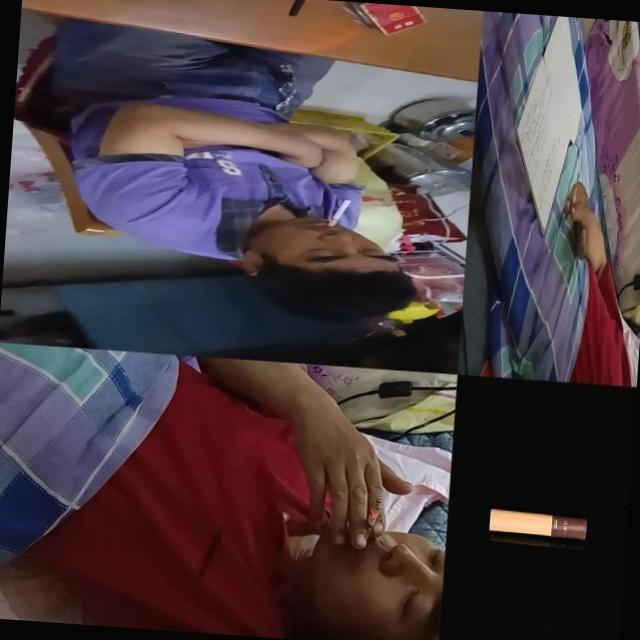smoke: (488, 507, 588, 542), (361, 497, 384, 541), (326, 198, 353, 228), (567, 172, 579, 226)
